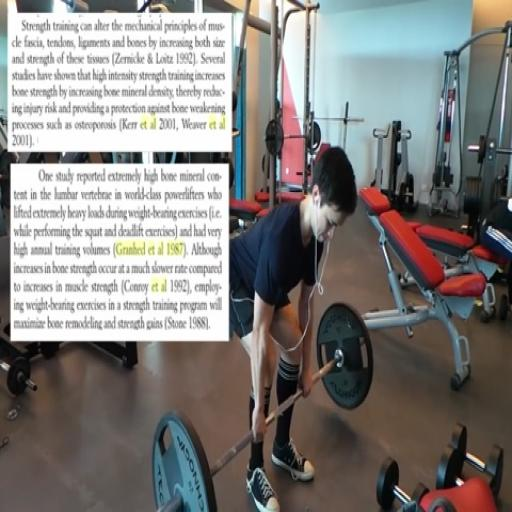exercise: (226, 144, 360, 510)
